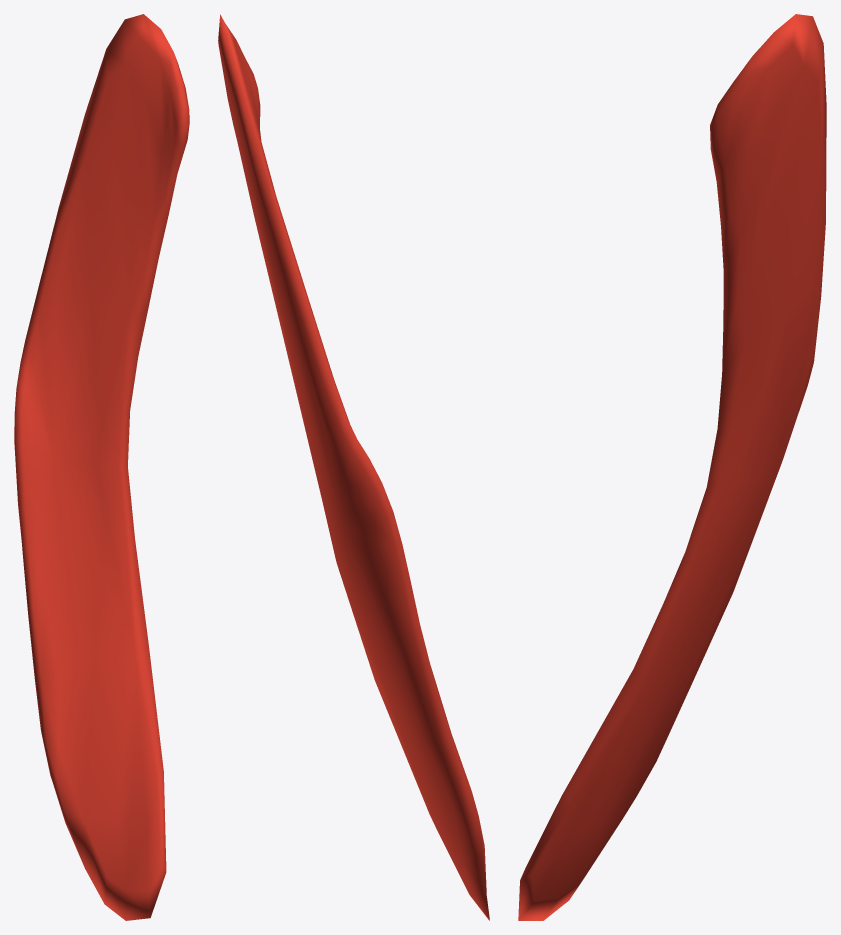
File: Dorsal_interossei_5th_metacarpal_left.glb
3 views of the same model, side by side, from view 1: azimuth 30°, elevation 25°; view 2: azimuth 150°, elevation 25°; view 3: azimuth 270°, elevation 25° (orthographic). The views are drawn at different scales.
Visible parts, largest first — view 1: Dorsal_interosseus_musclesof_5th_metacarpal_bone.l_Generated; view 2: Dorsal_interosseus_musclesof_5th_metacarpal_bone.l_Generated; view 3: Dorsal_interosseus_musclesof_5th_metacarpal_bone.l_Generated.
Boxes of the visible parts, bbox=[...] form: Dorsal_interosseus_musclesof_5th_metacarpal_bone.l_Generated: bbox=[14, 14, 189, 920]; Dorsal_interosseus_musclesof_5th_metacarpal_bone.l_Generated: bbox=[218, 14, 489, 920]; Dorsal_interosseus_musclesof_5th_metacarpal_bone.l_Generated: bbox=[518, 14, 826, 920].
Bounding box in the file's own units: 0.00531 × 0.0239 × 0.00683.
